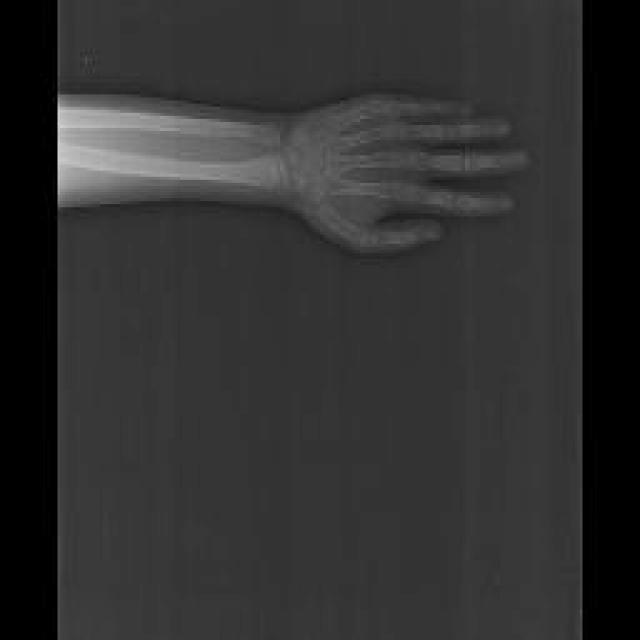normal: (54, 99, 531, 244)
